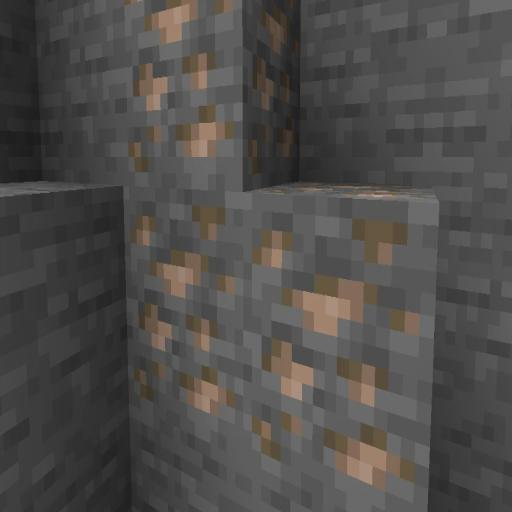iron ore: (122, 0, 430, 512)
